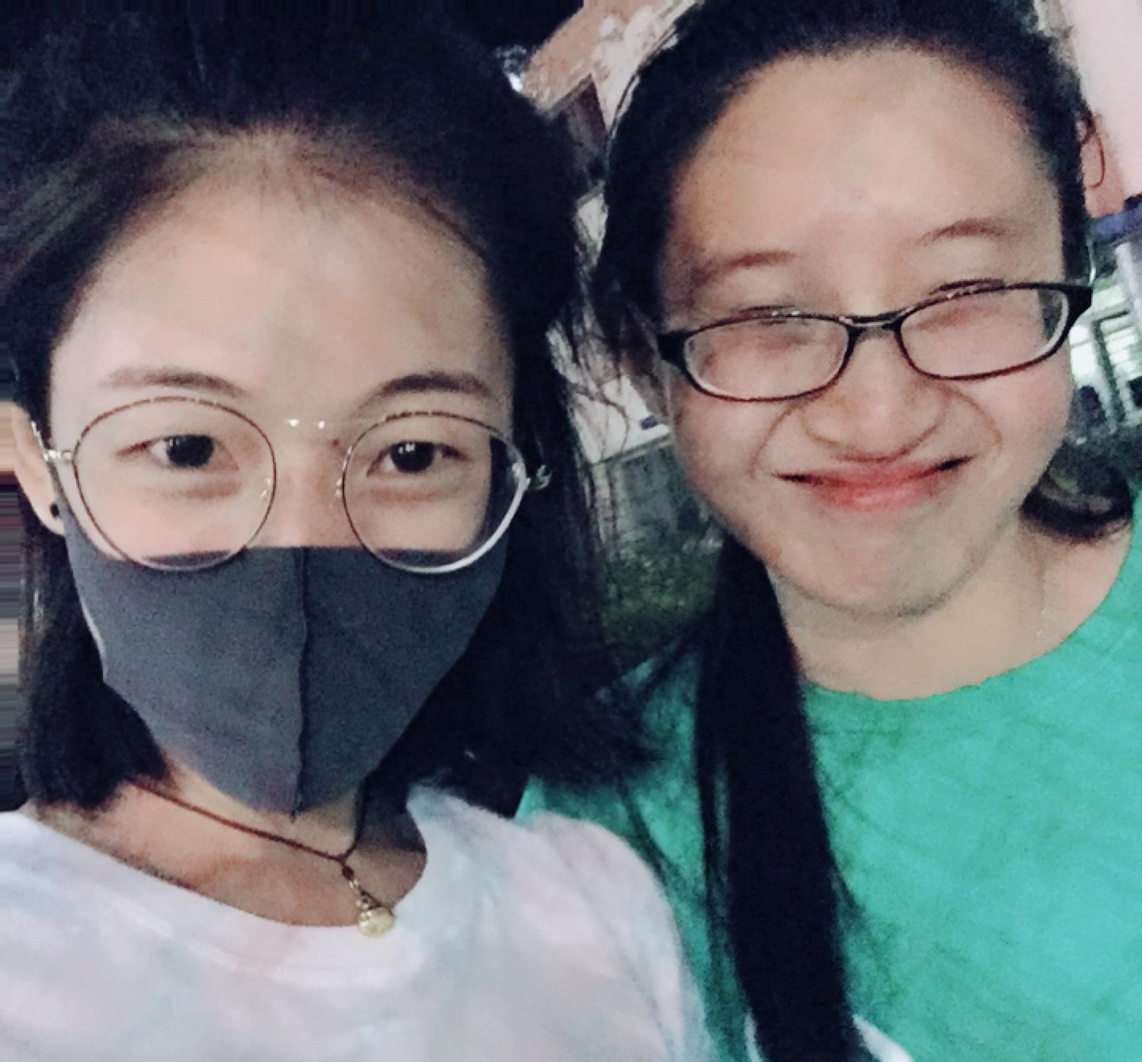NONE: (665, 199, 1083, 609)
OK: (74, 350, 511, 787)
